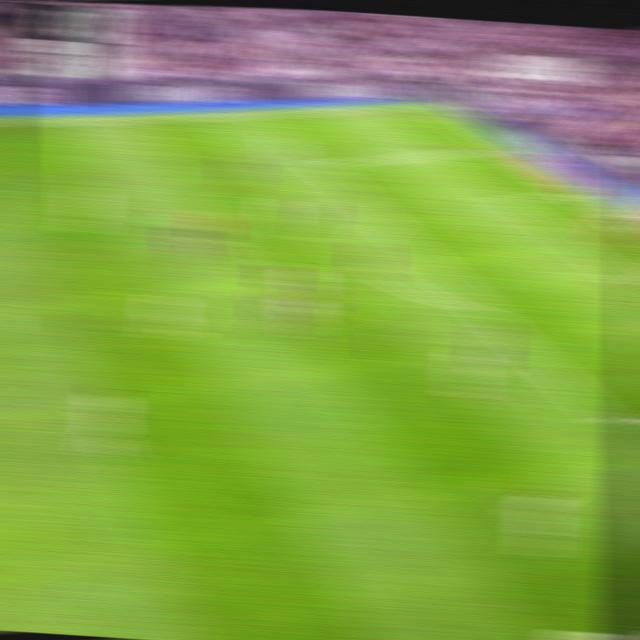bigarea_bottom_inner: (594, 407, 627, 436)
bigarea_top_inner: (309, 157, 334, 170)
bigarea_top_outter: (482, 140, 510, 153)
bottom_arc_area_intersection: (466, 298, 496, 318)
corner: (412, 97, 442, 110)
smallarea_top_inner: (496, 192, 523, 206)
top_arc_area_intersection: (370, 213, 398, 228)
